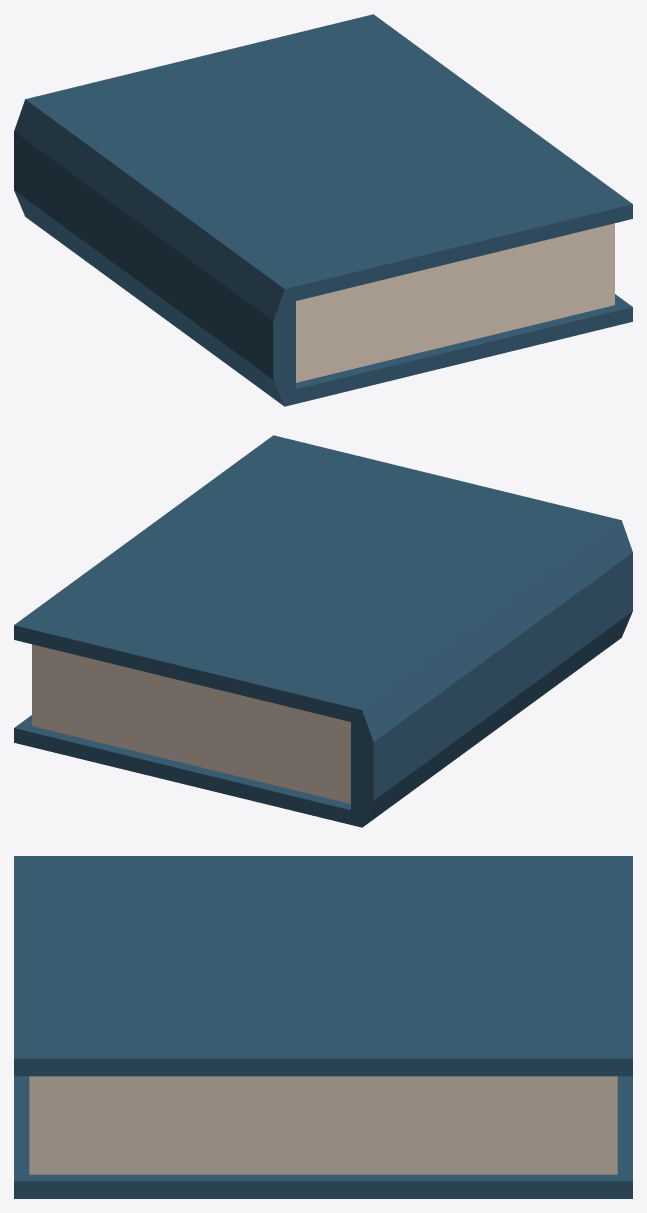
The model's file is fantasy_book_closed.fbx.
3 views of the same model, one above another, from view 1: azimuth 30°, elevation 25°; view 2: azimuth 150°, elevation 25°; view 3: azimuth 270°, elevation 25° (orthographic). The views are drawn at different scales.
Parts seen in each view (by area): view 1: Cube.265; view 2: Cube.265; view 3: Cube.265.
Boxes of the visible parts, x1=… form: Cube.265: x1=14, y1=14, x2=632, y2=406; Cube.265: x1=14, y1=435, x2=632, y2=827; Cube.265: x1=14, y1=856, x2=632, y2=1198.
Bounding box in the file's own units: 32 × 10 × 40.
